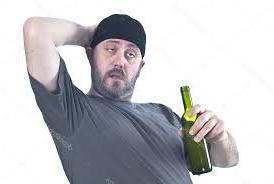Drunk: (101, 40, 140, 94)
